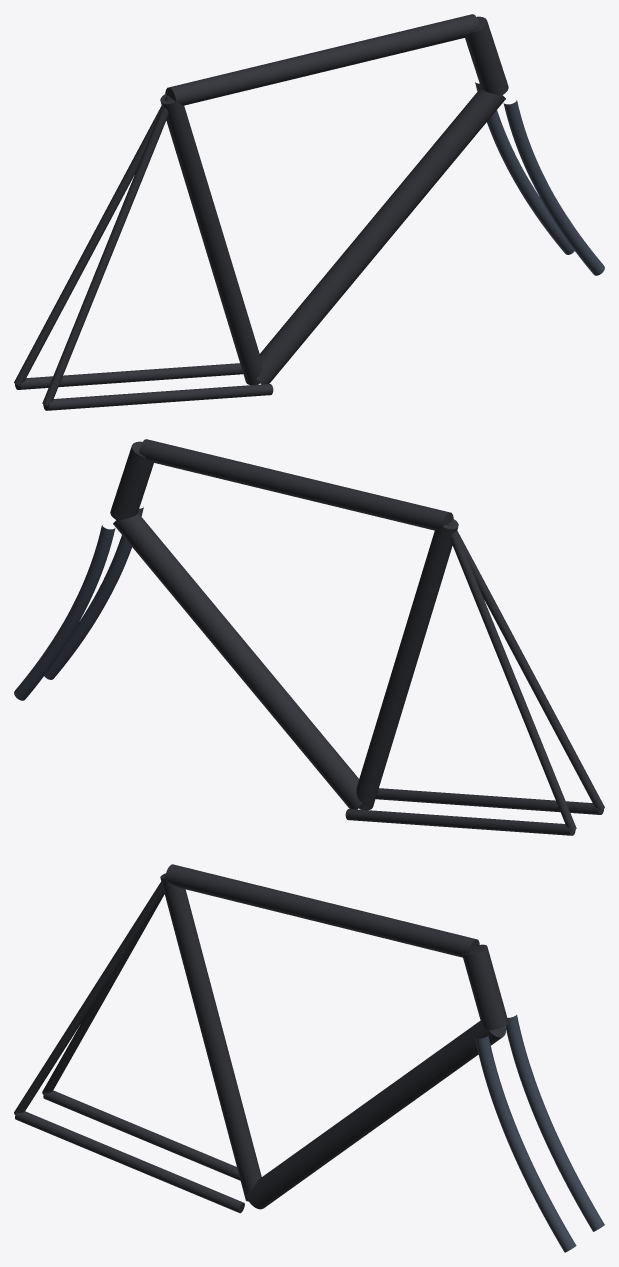
Rendered from state-black-label-v3-55.glb.
3 renders of one model, top to bottom at view 1: azimuth 30°, elevation 25°; view 2: azimuth 150°, elevation 25°; view 3: azimuth 330°, elevation 25°, orthographic.
Parts seen in each view (by area): view 1: paint_down, paint_top, paint_seat, paint_seatstay_0.045, fork_0.045, paint_chainstay_0.045, paint_seatstay_-0.045, paint_chainstay_-0.045, fork_-0.045, paint_head; view 2: paint_down, paint_top, paint_seat, paint_seatstay_-0.045, fork_-0.045, paint_chainstay_-0.045, paint_seatstay_0.045, paint_chainstay_0.045, fork_0.045, paint_head; view 3: paint_down, paint_seat, paint_top, fork_0.045, fork_-0.045, paint_chainstay_0.045, paint_seatstay_0.045, paint_chainstay_-0.045, paint_head, paint_seatstay_-0.045.
Part boxes in pixels (box(x1,y1,x2,y2)): paint_down: box(256, 88, 505, 384); paint_top: box(165, 14, 479, 105); paint_seat: box(160, 94, 262, 385); paint_seatstay_0.045: box(42, 97, 172, 406); fork_0.045: box(503, 100, 604, 275); paint_chainstay_0.045: box(43, 384, 273, 410); paint_seatstay_-0.045: box(14, 95, 170, 386); paint_chainstay_-0.045: box(15, 363, 243, 389); fork_-0.045: box(475, 82, 574, 254); paint_head: box(465, 16, 508, 95); paint_down: box(113, 513, 362, 809); paint_top: box(139, 439, 453, 530); paint_seat: box(356, 519, 458, 810); paint_seatstay_-0.045: box(446, 522, 576, 831); fork_-0.045: box(14, 525, 115, 700); paint_chainstay_-0.045: box(345, 809, 575, 835); paint_seatstay_0.045: box(448, 520, 604, 811); paint_chainstay_0.045: box(375, 788, 603, 814); fork_0.045: box(44, 507, 143, 679); paint_head: box(110, 441, 153, 520); paint_down: box(246, 1020, 505, 1209); paint_seat: box(160, 873, 261, 1201); paint_top: box(165, 864, 479, 957); fork_0.045: box(475, 1035, 576, 1252); fork_-0.045: box(505, 1014, 604, 1231); paint_chainstay_0.045: box(15, 1111, 244, 1213); paint_seatstay_0.045: box(14, 874, 165, 1114); paint_chainstay_-0.045: box(43, 1090, 240, 1180); paint_head: box(462, 944, 508, 1030); paint_seatstay_-0.045: box(42, 893, 164, 1094).
Size of the model in its own units: 1.02 by 0.5598 by 0.112.
